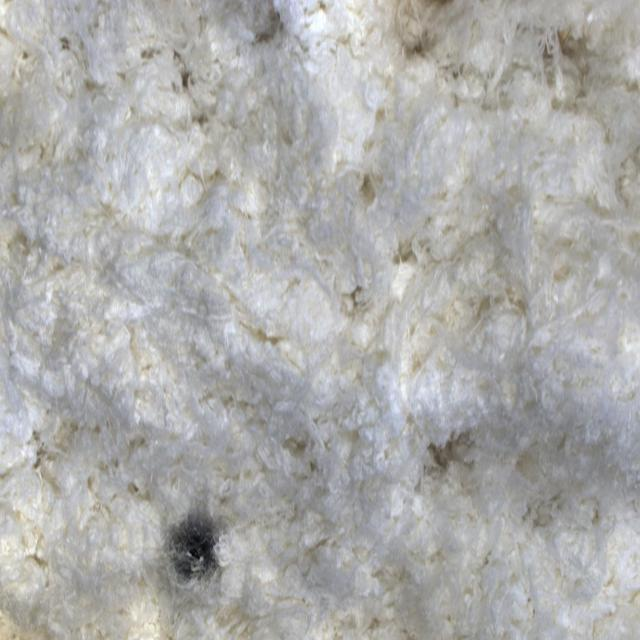dust: (143, 458, 260, 640)
